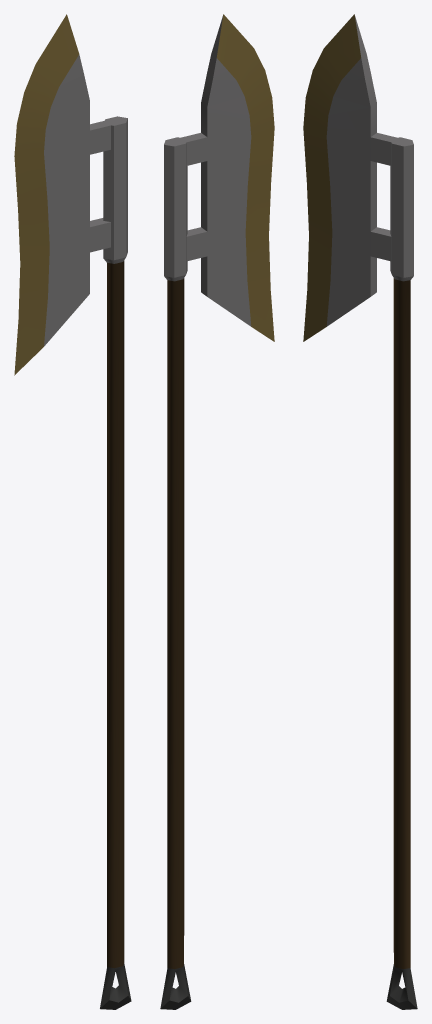
File: bardiche.glb
3 renders of one model, left to right at view 1: azimuth 30°, elevation 25°; view 2: azimuth 210°, elevation 25°; view 3: azimuth 330°, elevation 25°, orthographic. The views are drawn at different scales.
Visible parts, largest first — view 1: 2H - Bardiche - Clint Bellanger; view 2: 2H - Bardiche - Clint Bellanger; view 3: 2H - Bardiche - Clint Bellanger.
Part boxes in pixels (bbox=[...]): 2H - Bardiche - Clint Bellanger: bbox=[14, 14, 131, 1009]; 2H - Bardiche - Clint Bellanger: bbox=[160, 14, 274, 1009]; 2H - Bardiche - Clint Bellanger: bbox=[303, 14, 417, 1009].
Size of the model in its own units: 0.2484 by 2.04 by 0.0326.
